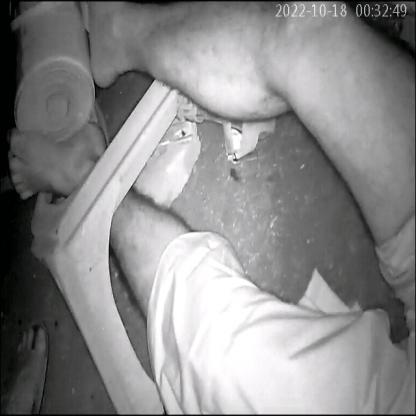leg: (84, 0, 378, 239), (0, 111, 114, 210)
